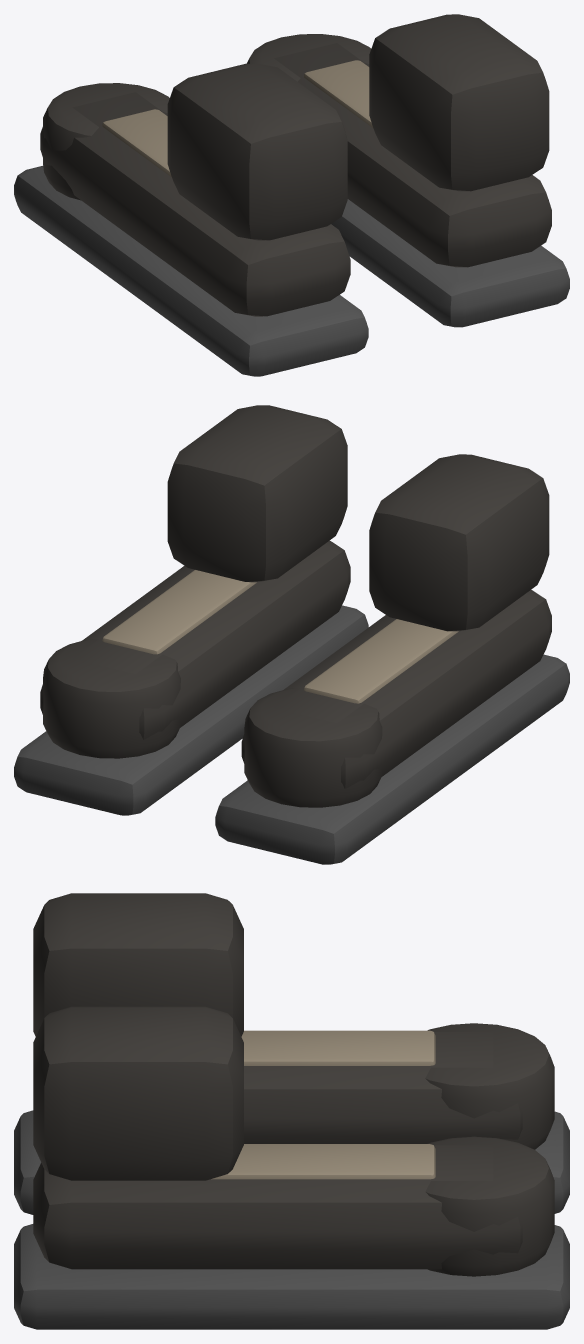
Rendered from SER-EPI-002.glb.
3 renders of one model, top to bottom at view 1: azimuth 30°, elevation 25°; view 2: azimuth 150°, elevation 25°; view 3: azimuth 270°, elevation 25°, orthographic. The views are drawn at different scales.
Visible parts, largest first — view 1: SER-EPI-002_cano-1, SER-EPI-002_cano1, SER-EPI-002_corpo-1, SER-EPI-002_sola-1, SER-EPI-002_corpo1, SER-EPI-002_sola1, SER-EPI-002_bico-1, SER-EPI-002_cadarco1, SER-EPI-002_cadarco-1, SER-EPI-002_bico1; view 2: SER-EPI-002_cano-1, SER-EPI-002_cano1, SER-EPI-002_sola-1, SER-EPI-002_corpo1, SER-EPI-002_corpo-1, SER-EPI-002_sola1, SER-EPI-002_bico-1, SER-EPI-002_bico1, SER-EPI-002_cadarco-1, SER-EPI-002_cadarco1; view 3: SER-EPI-002_corpo1, SER-EPI-002_cano1, SER-EPI-002_sola1, SER-EPI-002_cano-1, SER-EPI-002_corpo-1, SER-EPI-002_bico1, SER-EPI-002_bico-1, SER-EPI-002_cadarco1, SER-EPI-002_cadarco-1, SER-EPI-002_sola-1.
Part boxes in pixels (x1,y1,x2,y2): SER-EPI-002_cano-1: (167,63,347,240); SER-EPI-002_cano1: (369,14,549,191); SER-EPI-002_corpo-1: (40,92,350,316); SER-EPI-002_sola-1: (14,166,368,376); SER-EPI-002_corpo1: (274,43,551,267); SER-EPI-002_sola1: (331,199,569,327); SER-EPI-002_bico-1: (43,83,169,200); SER-EPI-002_cadarco1: (303,60,372,127); SER-EPI-002_cadarco-1: (102,109,171,177); SER-EPI-002_bico1: (247,34,370,81); SER-EPI-002_cano-1: (369,454,549,631); SER-EPI-002_cano1: (167,405,347,582); SER-EPI-002_sola-1: (215,654,569,864); SER-EPI-002_corpo1: (40,540,350,739); SER-EPI-002_corpo-1: (241,589,551,788); SER-EPI-002_sola1: (14,605,368,815); SER-EPI-002_bico-1: (244,688,382,807); SER-EPI-002_bico1: (43,639,180,758); SER-EPI-002_cadarco-1: (304,619,458,703); SER-EPI-002_cadarco1: (102,570,256,654); SER-EPI-002_corpo1: (33,1145,522,1269); SER-EPI-002_cano1: (33,1006,243,1180); SER-EPI-002_sola1: (14,1224,569,1329); SER-EPI-002_cano-1: (33,893,243,1036); SER-EPI-002_corpo-1: (244,1032,522,1143); SER-EPI-002_bico1: (425,1136,554,1276); SER-EPI-002_bico-1: (425,1023,554,1149); SER-EPI-002_cadarco1: (211,1144,435,1179); SER-EPI-002_cadarco-1: (241,1030,435,1065); SER-EPI-002_sola-1: (14,1110,569,1214).
Bounding box in the file's own units: 0.23 × 0.16 × 0.29.
